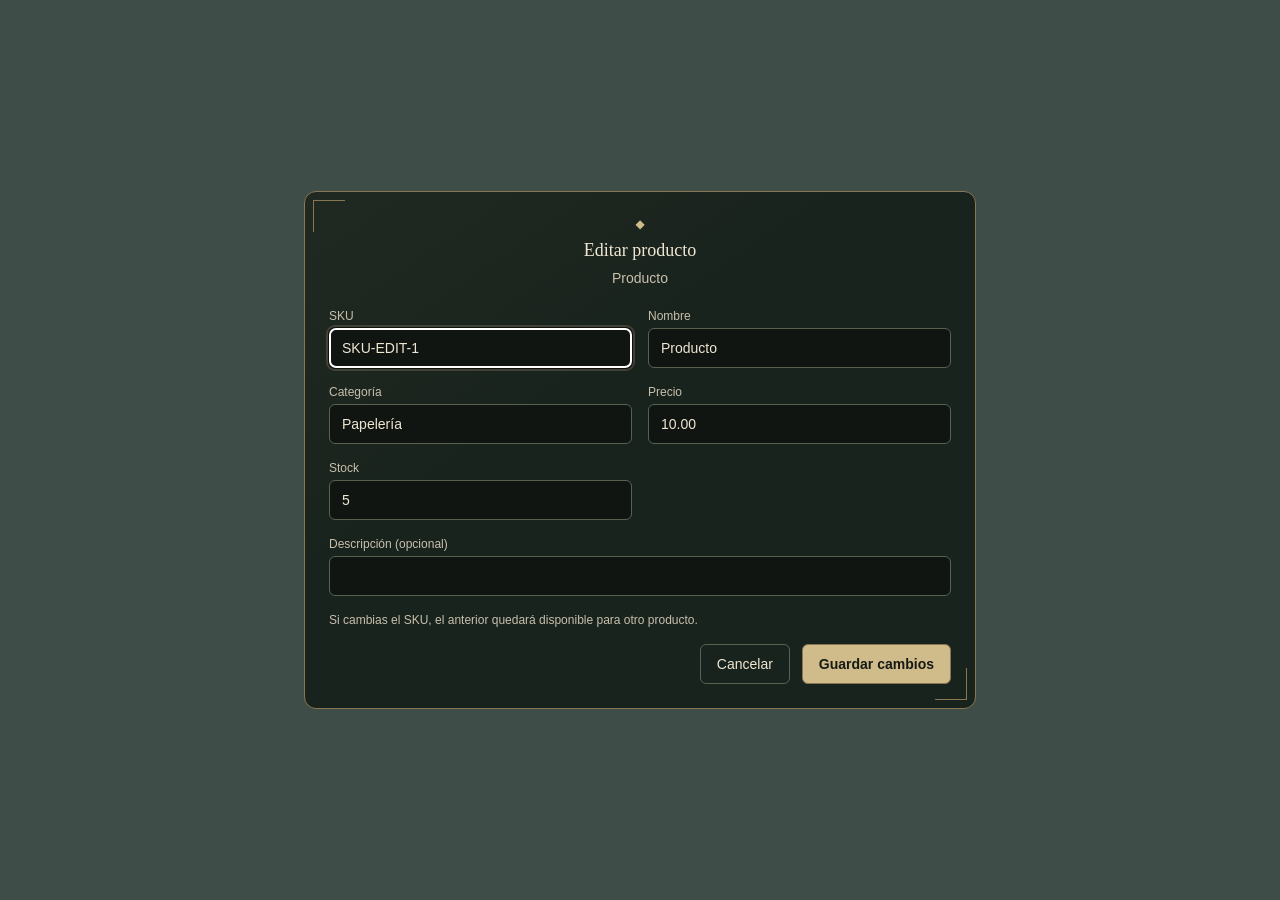
Test: still shows server-only conflict errors after a valid submission
The width and height of the screenshot is (1280, 900).
Replace the text in the field labelled "Precio" with "14.00" at [800, 424], box x1=648 y1=404 x2=951 y2=444
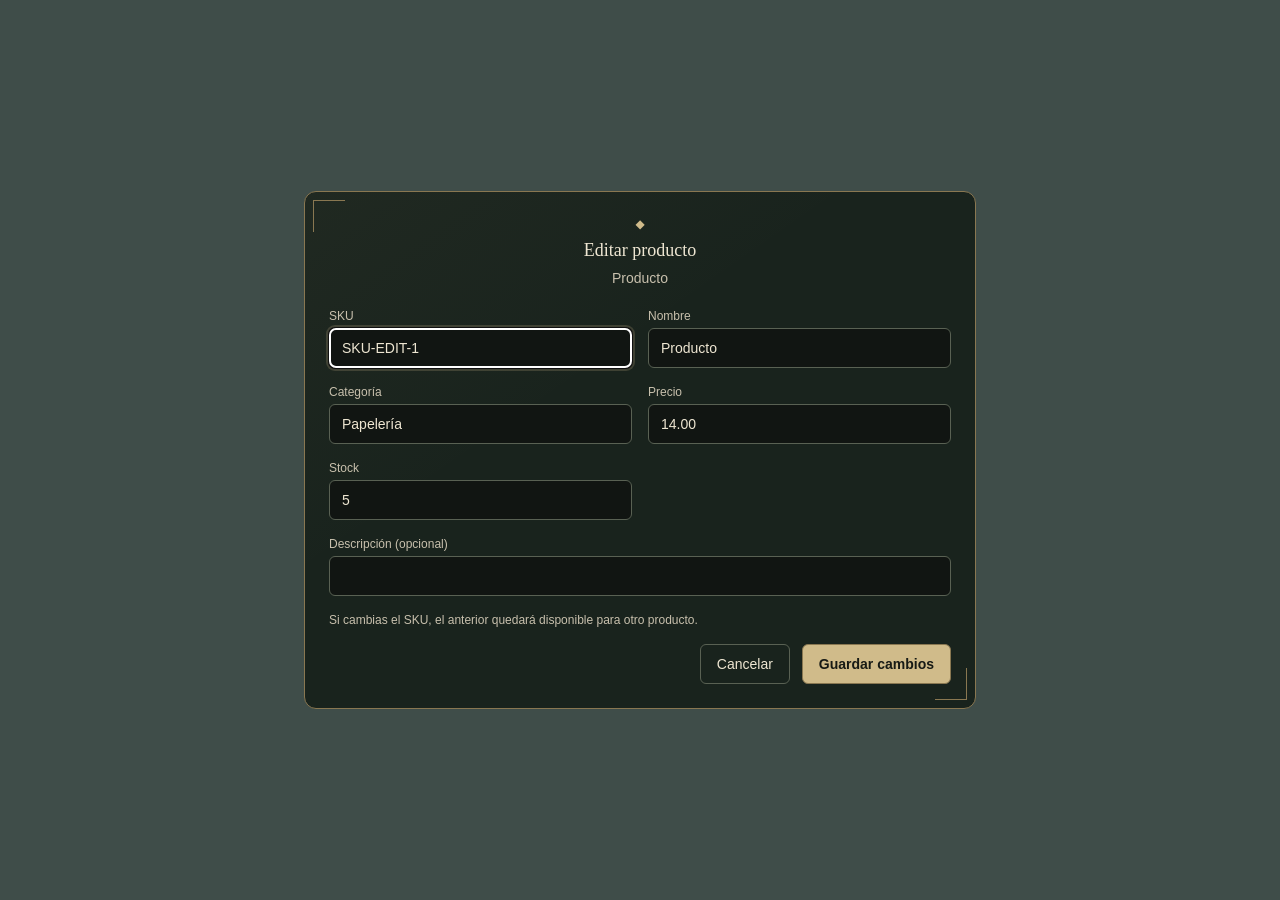
Submit the form, box x1=329 y1=308 x2=951 y2=684
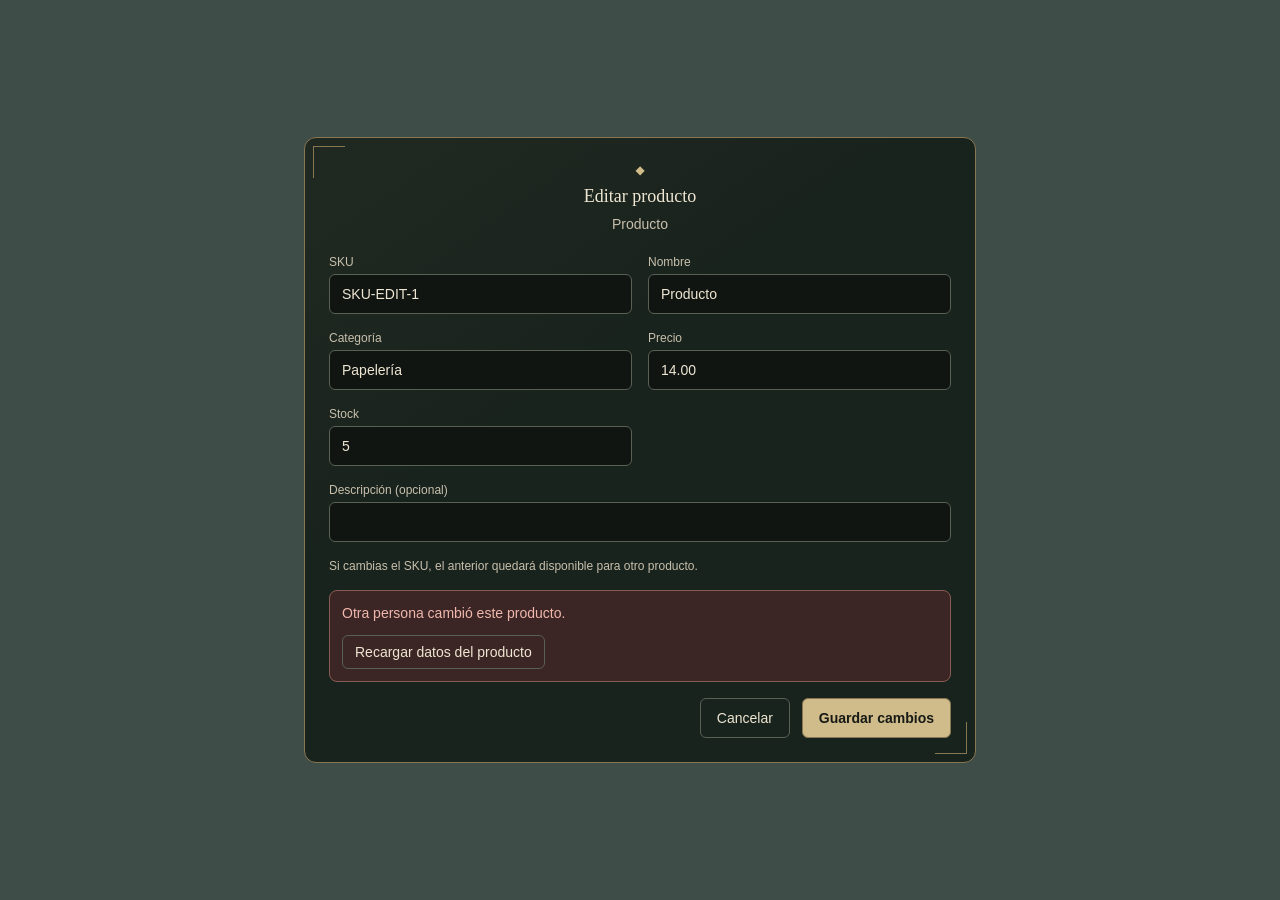
Expected: the message shows "Otra persona cambió este producto", x1=342 y1=605 x2=565 y2=621
